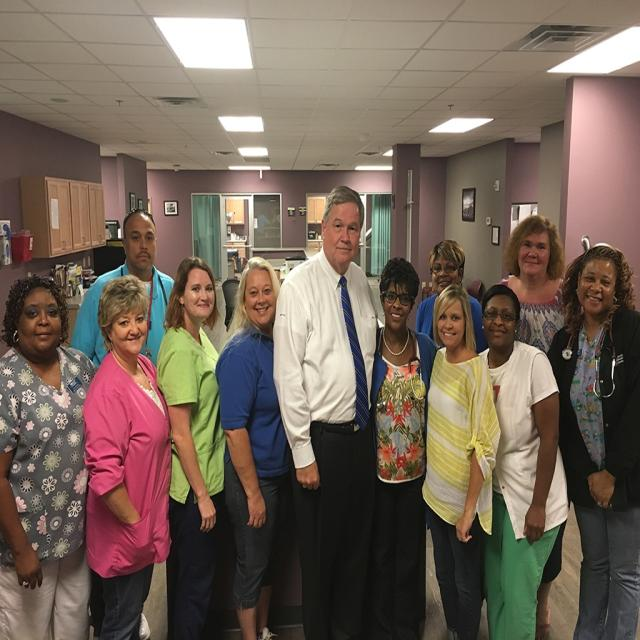body: (272, 182, 378, 640), (540, 238, 640, 640), (76, 262, 175, 639), (0, 268, 99, 639), (475, 282, 570, 639), (494, 212, 570, 640), (214, 255, 298, 640), (152, 251, 230, 639), (366, 255, 440, 640), (422, 281, 497, 640), (70, 207, 176, 371), (414, 238, 490, 354), (253, 206, 280, 233)
